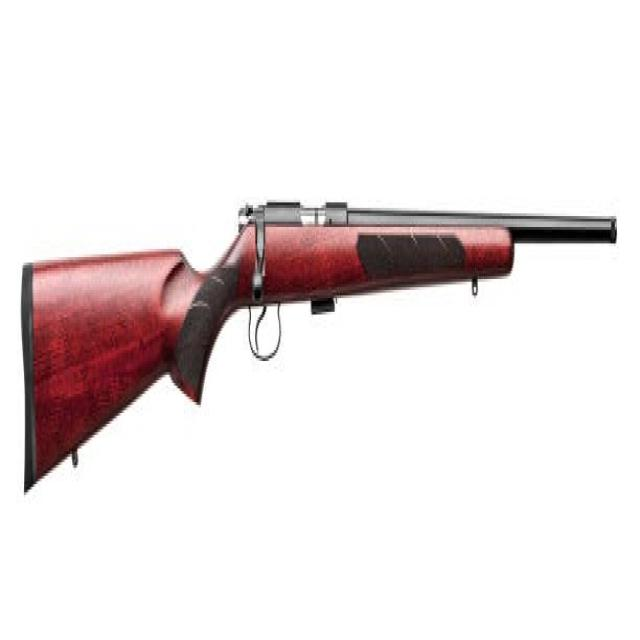rifle: (15, 189, 623, 501)
